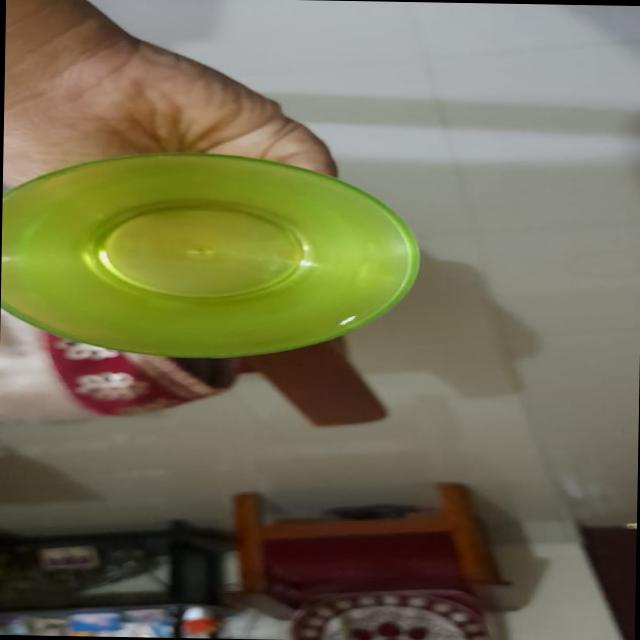Plastic - Recyclable: (0, 148, 424, 363)
